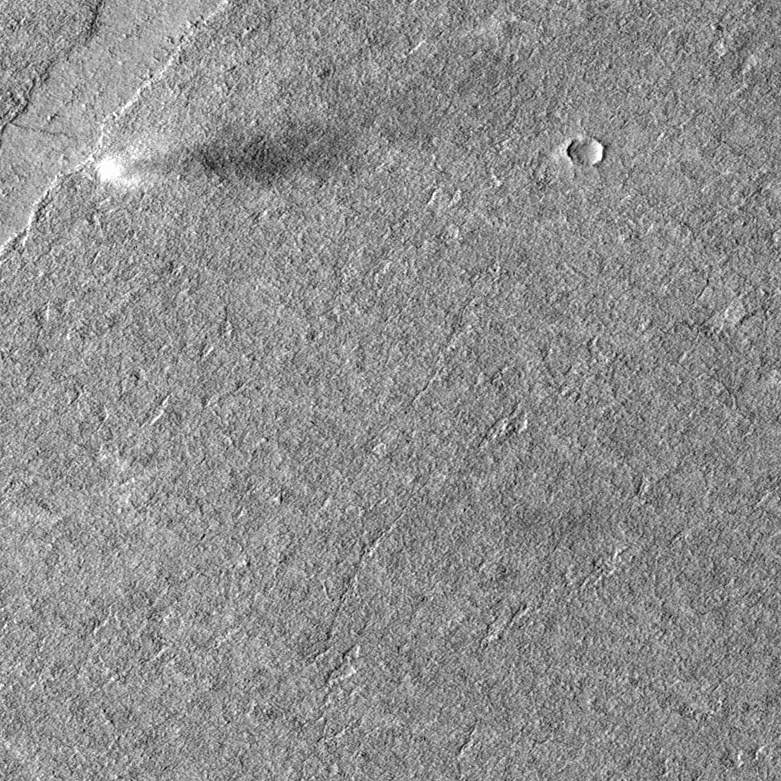dust_devil: (90, 118, 343, 192)
